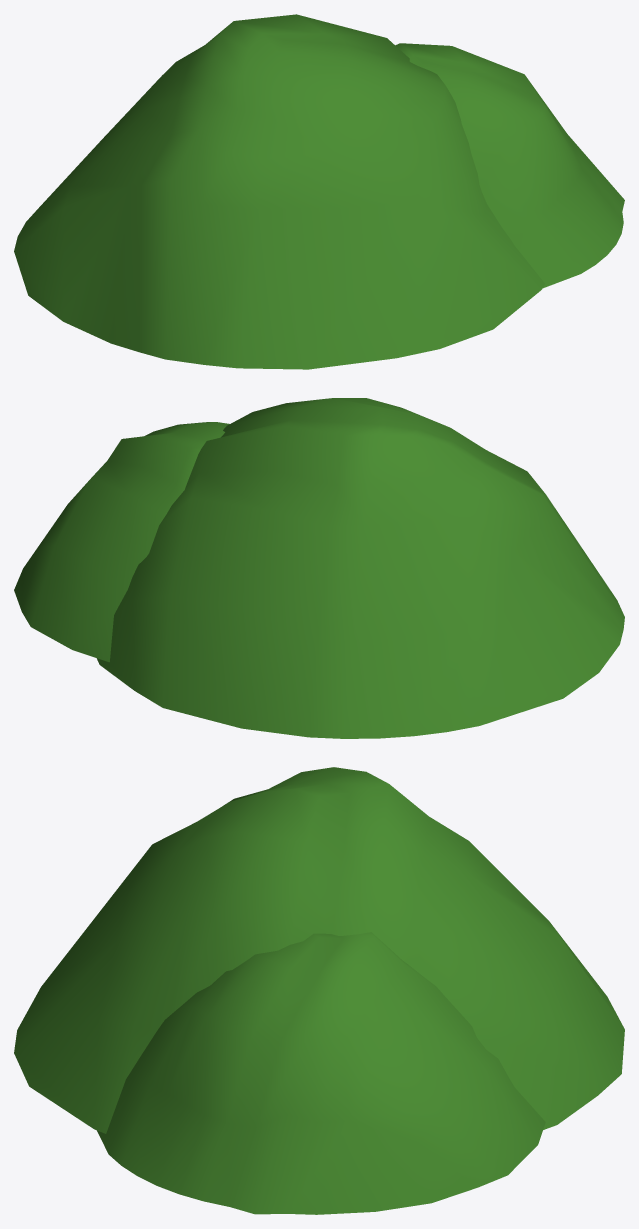
The model's file is Bush2.fbx.
3 renders of one model, top to bottom at view 1: azimuth 30°, elevation 25°; view 2: azimuth 150°, elevation 25°; view 3: azimuth 270°, elevation 25°, orthographic. The views are drawn at different scales.
Parts seen in each view (by area): view 1: pDisc4; view 2: pDisc4; view 3: pDisc4.
Boxes of the visible parts, bbox=[...] form: pDisc4: bbox=[14, 14, 624, 369]; pDisc4: bbox=[14, 398, 624, 738]; pDisc4: bbox=[14, 767, 624, 1214].
Bounding box in the file's own units: 5.44 × 2.07 × 4.64.
